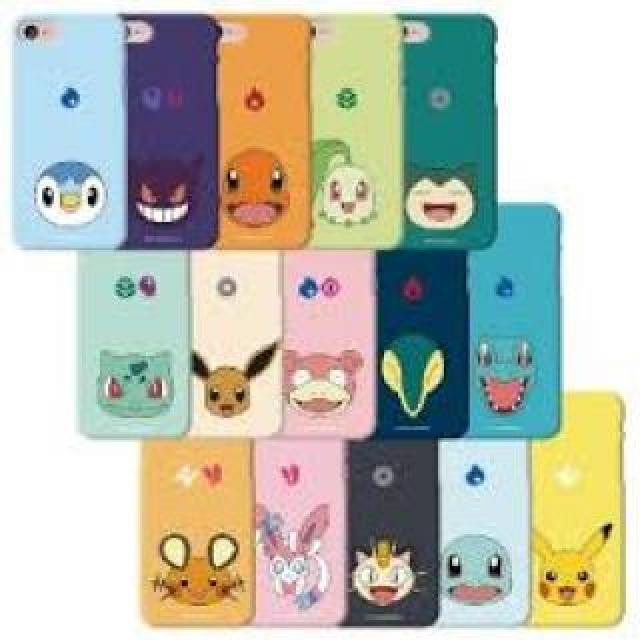smart phone: (15, 2, 132, 263), (400, 3, 503, 237), (217, 12, 308, 262), (532, 392, 626, 633), (135, 445, 258, 622), (342, 430, 448, 625), (370, 238, 473, 437), (472, 198, 560, 420), (132, 8, 212, 252), (82, 246, 182, 436), (277, 230, 365, 435), (307, 10, 390, 215), (434, 442, 524, 620), (268, 437, 347, 633), (186, 243, 262, 425)
